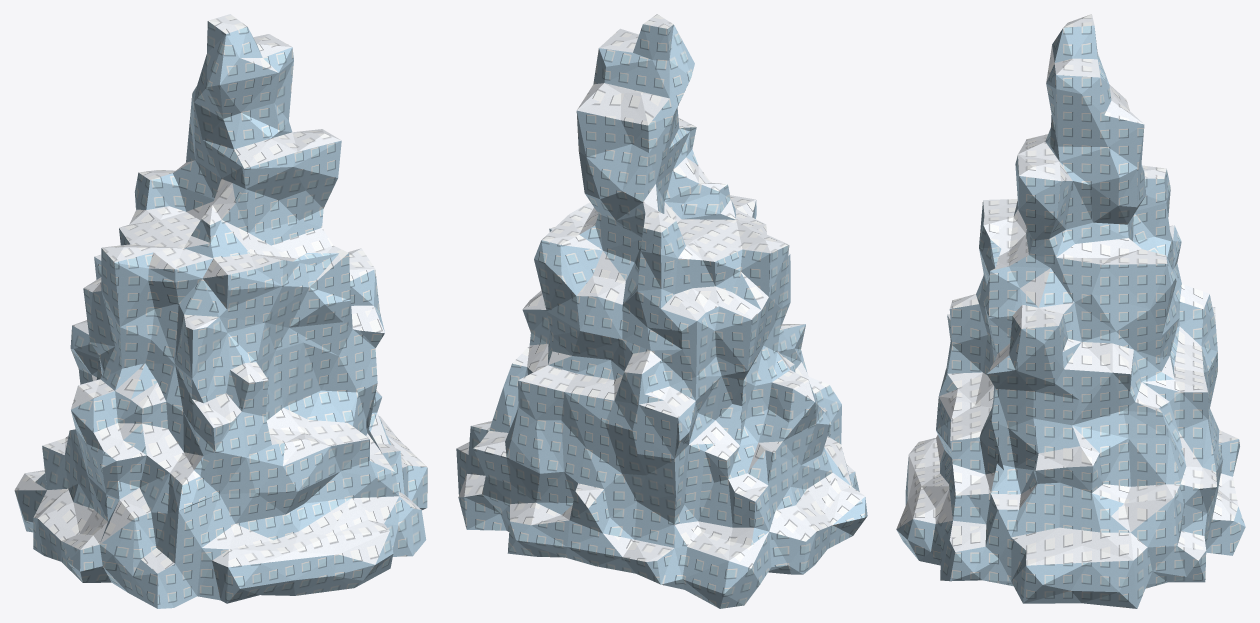
File: IcebergBig.glb
3 renders of one model, left to right at view 1: azimuth 30°, elevation 25°; view 2: azimuth 150°, elevation 25°; view 3: azimuth 270°, elevation 25°, orthographic.
Visible parts, largest first — view 1: IcebergBig_Rock, IcebergBig_Top; view 2: IcebergBig_Rock, IcebergBig_Top; view 3: IcebergBig_Rock, IcebergBig_Top.
Boxes of the visible parts, box(x1,y1,x2,y2) form: IcebergBig_Rock: box(14, 21, 427, 608); IcebergBig_Top: box(15, 14, 426, 573); IcebergBig_Rock: box(456, 24, 867, 608); IcebergBig_Top: box(456, 14, 864, 568); IcebergBig_Rock: box(896, 25, 1245, 608); IcebergBig_Top: box(896, 14, 1238, 565).
Size of the model in its own units: 22.76 by 30.55 by 18.83.
Materials: 2 (2 with a texture image).
